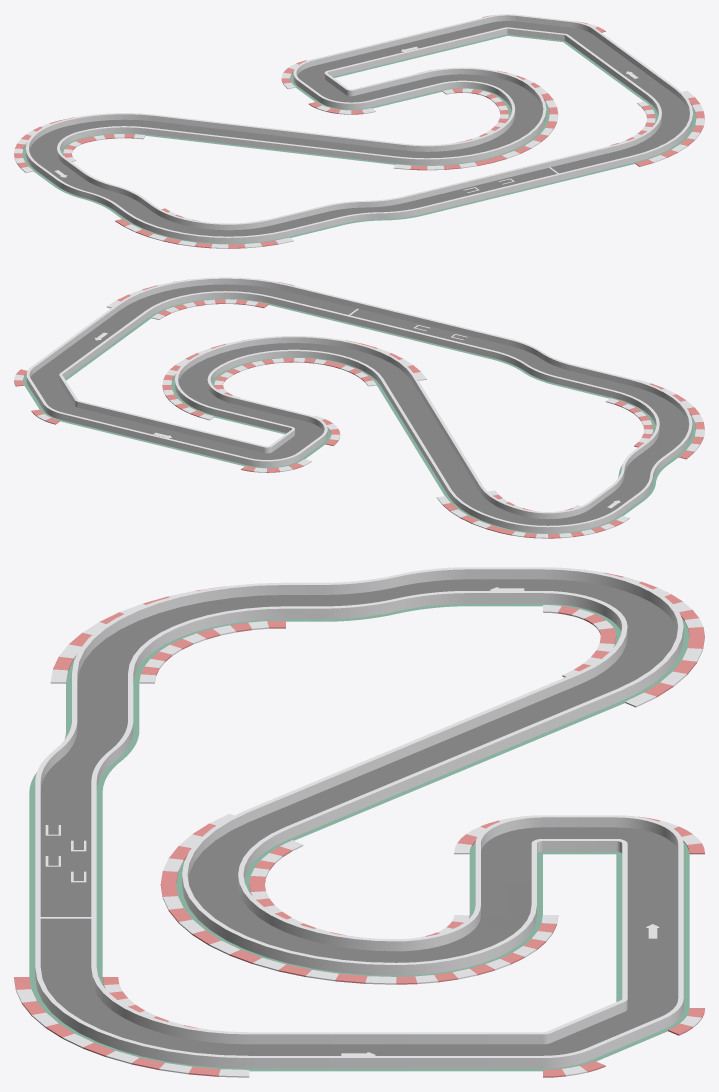
The model's file is track.dae.
3 views of the same model, one above another, from view 1: azimuth 30°, elevation 25°; view 2: azimuth 150°, elevation 25°; view 3: azimuth 270°, elevation 25° (orthographic). The views are drawn at different scales.
Parts seen in each view (by area): view 1: Track, Walls; view 2: Track, Walls; view 3: Track, Walls.
Boxes of the visible parts, x1,y1,x2,y2 form: Track: (14,15,704,248); Walls: (26,14,692,243); Track: (14,279,704,538); Walls: (26,277,692,532); Track: (14,569,704,1077); Walls: (35,567,683,1067).
Size of the model in its own units: 32.84 by 18.84 by 0.3299.
